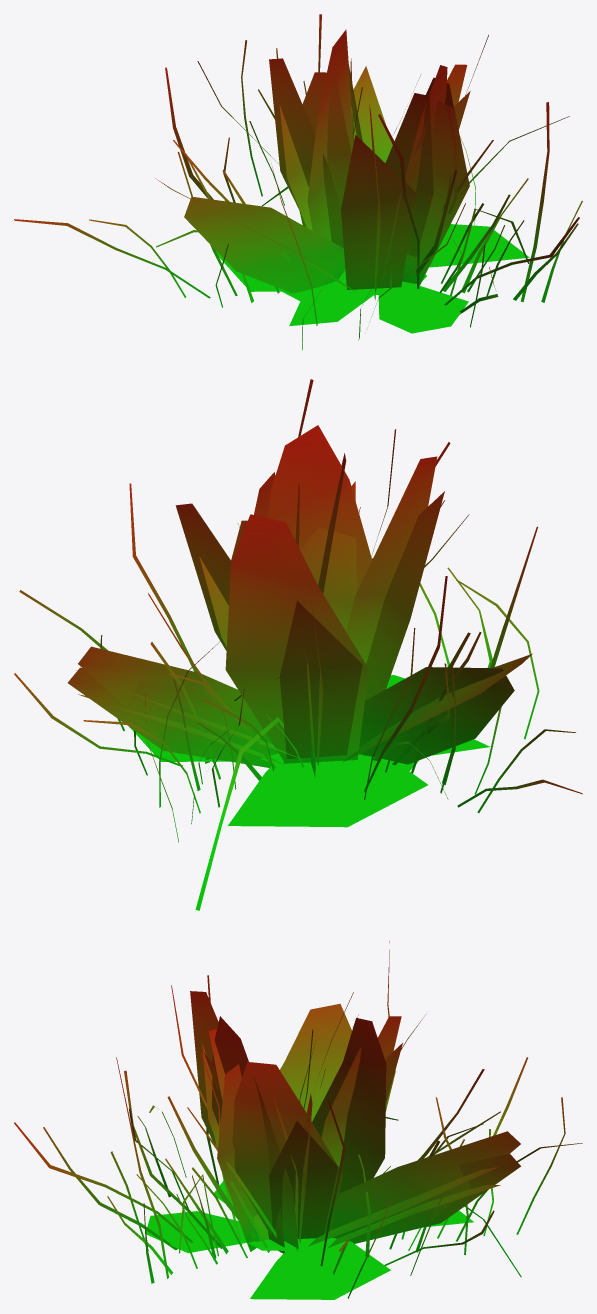
Rendered from Var11_LOD1.fbx.
3 renders of one model, top to bottom at view 1: azimuth 30°, elevation 25°; view 2: azimuth 150°, elevation 25°; view 3: azimuth 270°, elevation 25°, orthographic. The views are drawn at different scales.
Visible parts, largest first — view 1: _c98a_Var11_LOD1; view 2: _c98a_Var11_LOD1; view 3: _c98a_Var11_LOD1.
Boxes of the visible parts, bbox=[...] form: _c98a_Var11_LOD1: bbox=[14, 14, 582, 349]; _c98a_Var11_LOD1: bbox=[14, 379, 582, 910]; _c98a_Var11_LOD1: bbox=[14, 941, 582, 1299].
Bounding box in the file's own units: 18.98 × 10.02 × 18.07.
